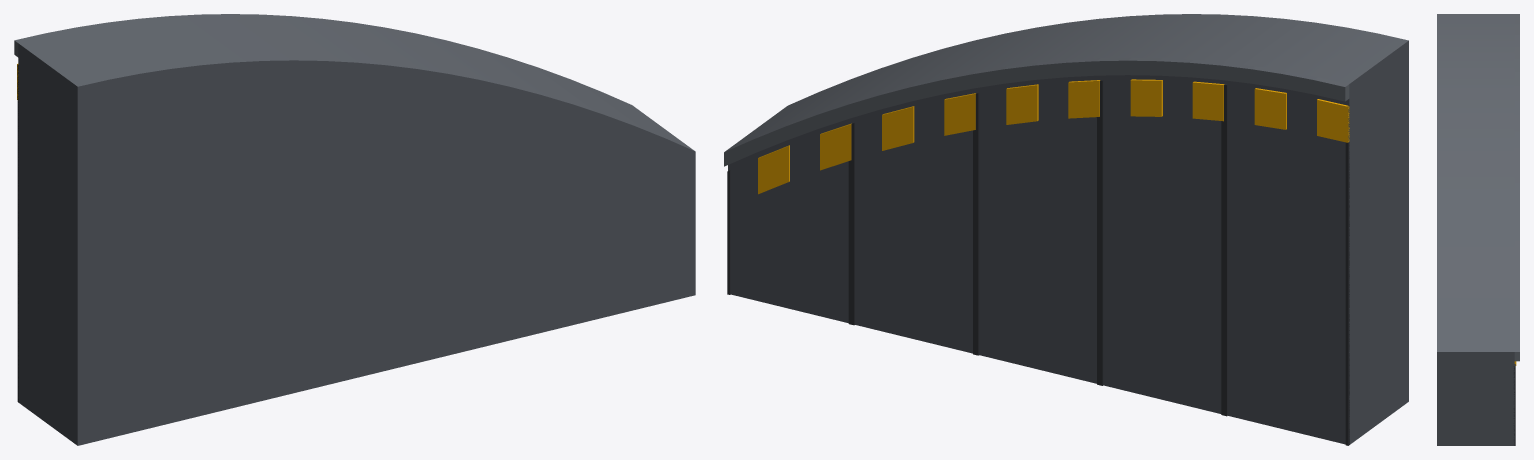
The picture shows the model from 3 angles, left to right: view 1: azimuth 30°, elevation 25°; view 2: azimuth 150°, elevation 25°; view 3: azimuth 270°, elevation 25°; orthographic projection. The views are drawn at different scales.
Parts seen in each view (by area): view 1: e3wf; view 2: e3wf; view 3: e3wf.
Boxes of the visible parts, box(x1,y1,x2,y2) form: e3wf: box(14, 14, 695, 445); e3wf: box(724, 14, 1408, 445); e3wf: box(1437, 14, 1519, 445).
Size of the model in its own units: 9 by 5 by 1.6.
